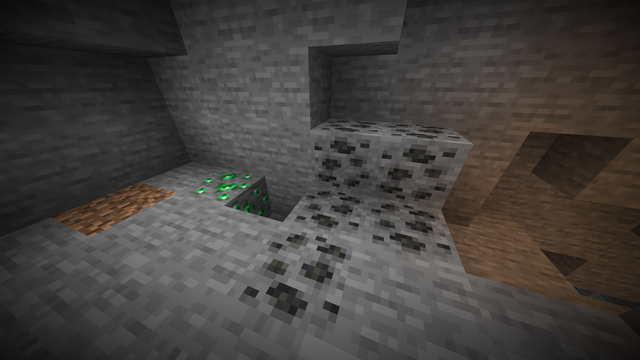coal: (245, 119, 459, 337)
emerald: (194, 168, 273, 219)
